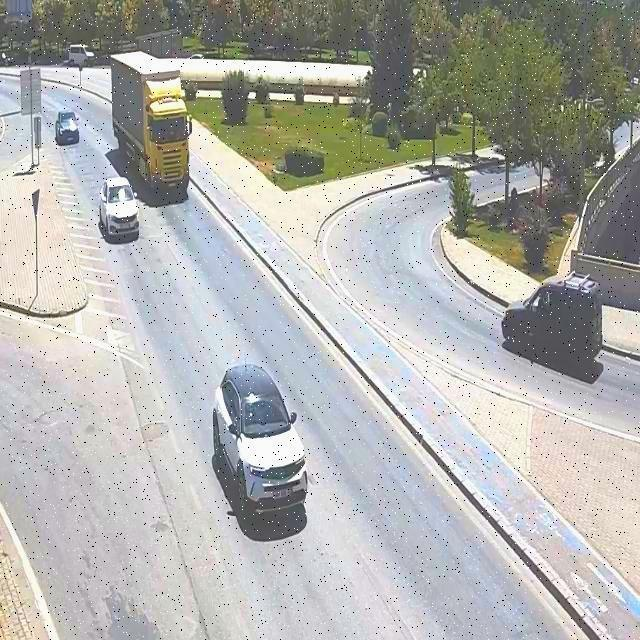Car: (212, 362, 309, 515), (502, 275, 606, 372), (98, 177, 140, 238), (55, 110, 79, 144)
Truck: (108, 50, 194, 198)
Van: (66, 44, 96, 67)
